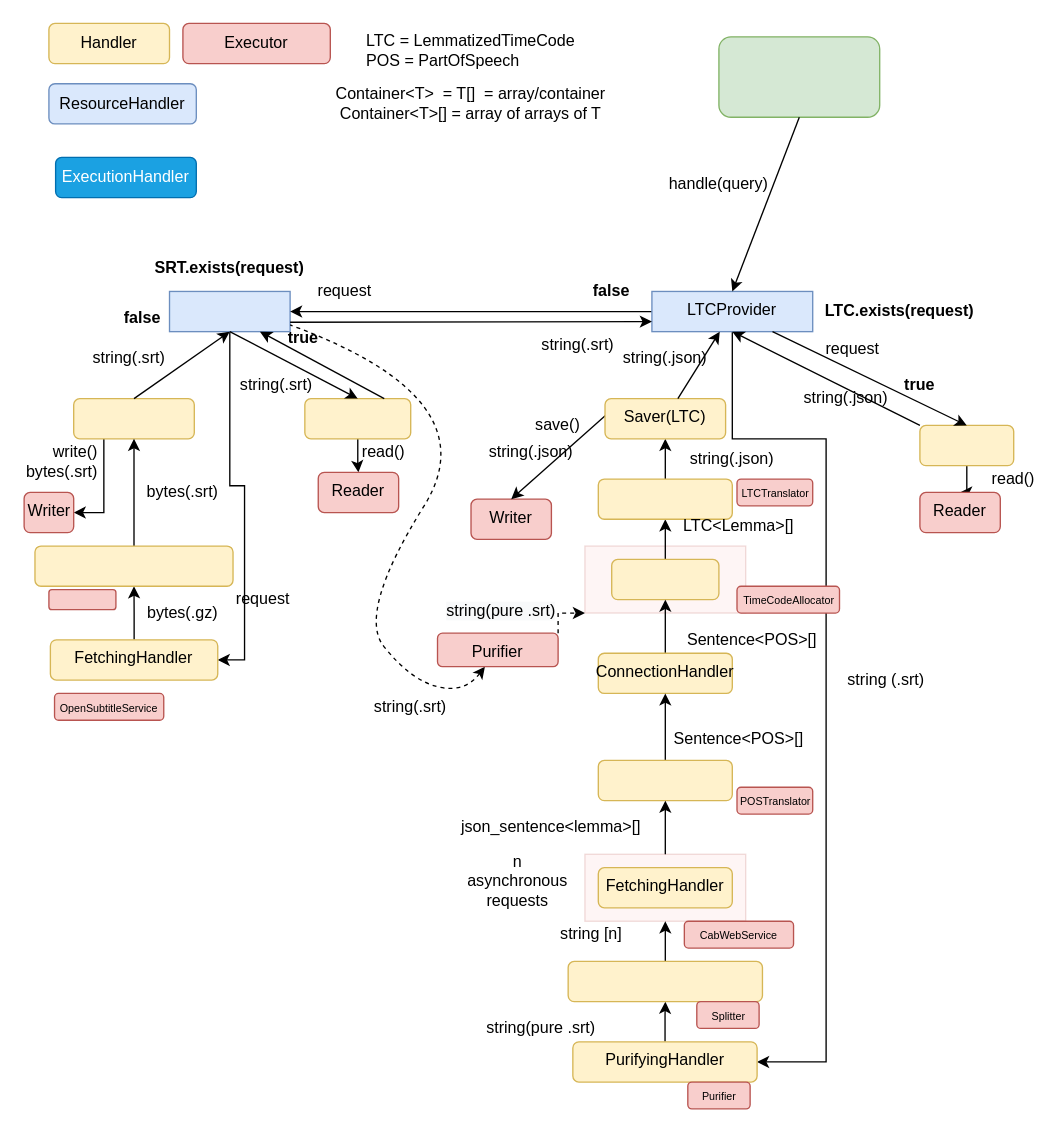
This 1063x1132 diagram has some shape labels left out. Here are the shapes that lost their labels. From the top down, the box of each, then its label:
(718, 36, 880, 117): SubtitleLemmatizer
(168, 290, 290, 332): SRTProvider
(72, 397, 194, 439): Saver(SRT)
(304, 397, 411, 439): Loader(SRT)
(919, 424, 1014, 466): Loader(LTC)
(597, 478, 732, 519): TranslatorHandler
(34, 545, 233, 586): ConversionHandler
(610, 558, 719, 600): TimeStamper
(48, 588, 116, 610): SRTUnzipper
(597, 759, 732, 801): TranslationHandler
(567, 960, 762, 1002): SplittingHandler
